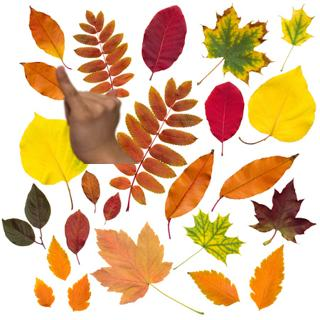HAVE: (47, 61, 130, 164)
